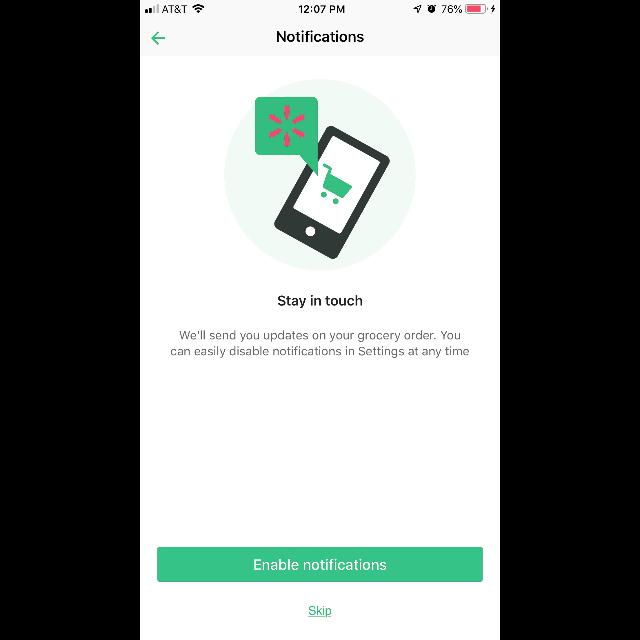icon: (151, 32, 165, 46)
image: (224, 79, 416, 271)
text: (171, 330, 469, 358), (276, 31, 364, 43), (278, 296, 362, 308), (308, 606, 332, 618)
textbutton: (158, 546, 482, 582)
uppertaskbar: (140, 0, 500, 14)
